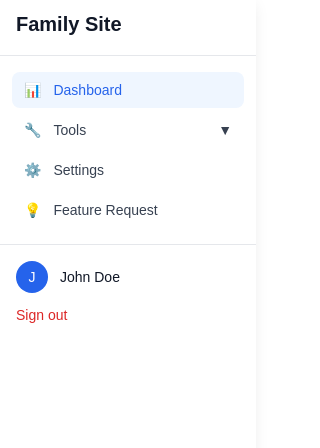
it: Sidebar › Tools dropdown › renders dropdown items when expanded
// Click to expand
Click the heading "🔧 Tools ▼" at (70, 130), box [24,122,232,138]
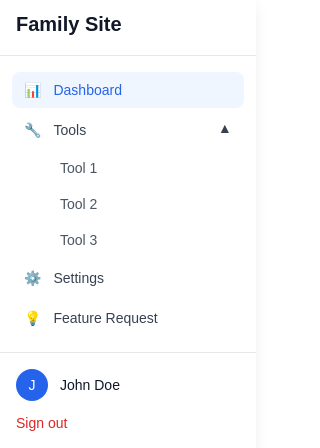
Check: the link "Tool 1" is shown, box [60,160,97,176]
Check: the link "Tool 2" is shown, box [60,196,97,212]
Check: the link "Tool 3" is shown, box [60,232,97,248]
